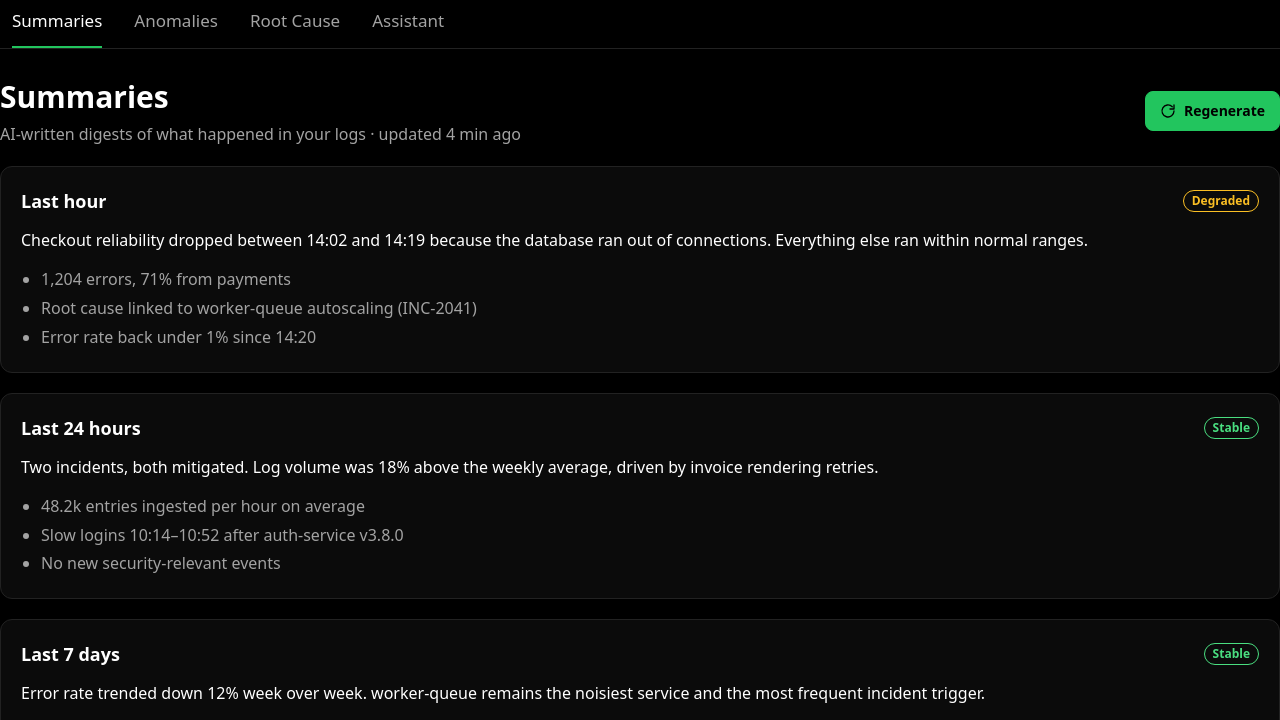
AiLayout › shows the matching page when a tab is clicked
Click the link "Anomalies": click(176, 20) [134,9,218,32]
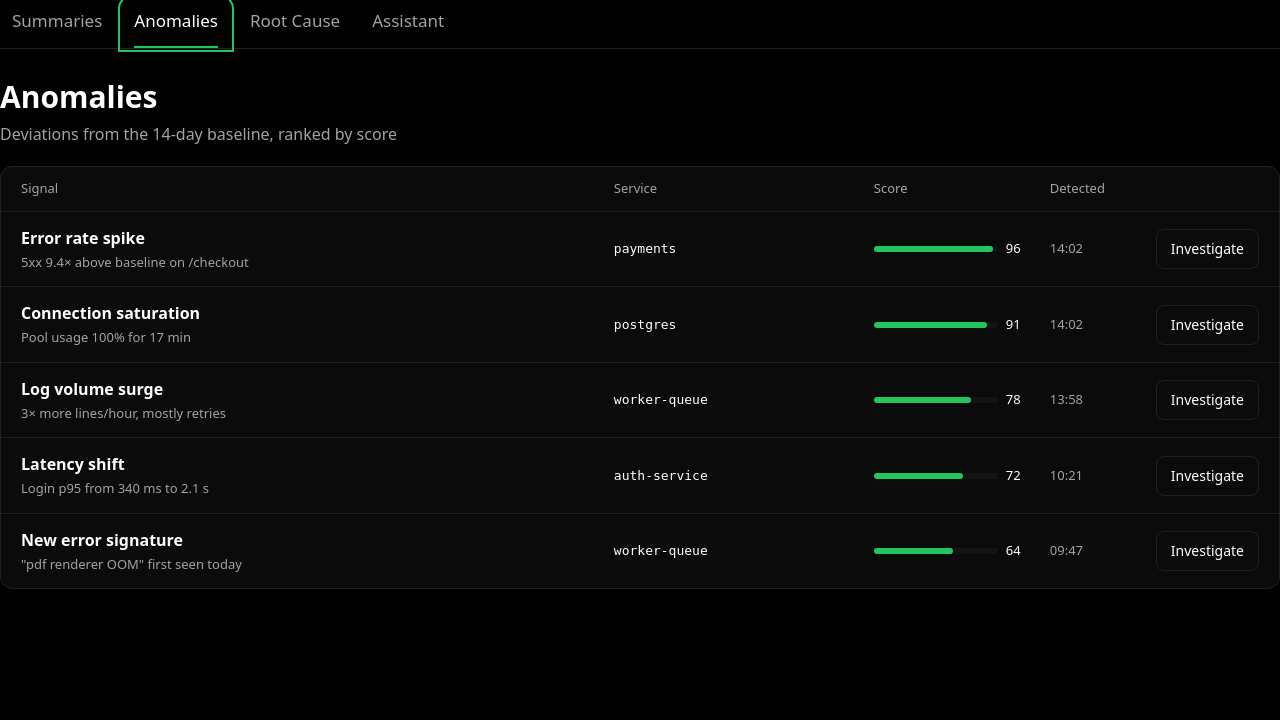
Result: the heading "Anomalies" is shown at [0,76,158,116]
